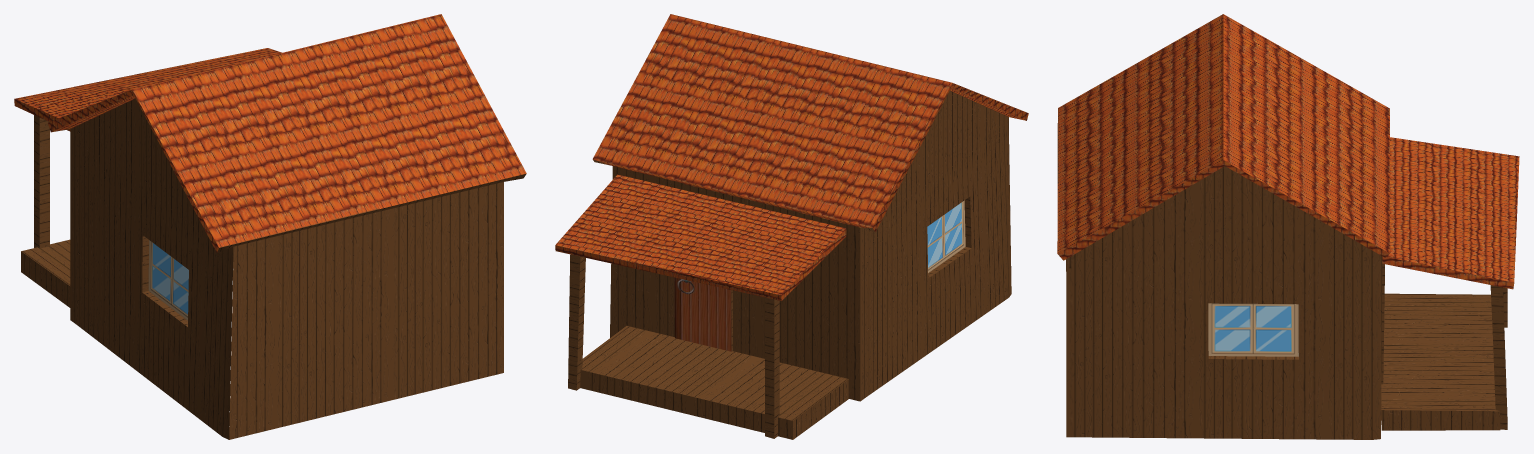
Rendered from ARC0710016.fbx.
3 views of the same model, side by side, from view 1: azimuth 30°, elevation 25°; view 2: azimuth 150°, elevation 25°; view 3: azimuth 270°, elevation 25° (orthographic). The views are drawn at different scales.
Visible parts, largest first — view 1: smARC0710016; view 2: smARC0710016; view 3: smARC0710016.
Part boxes in pixels (x1=…): smARC0710016: x1=14, y1=14, x2=526, y2=439; smARC0710016: x1=555, y1=14, x2=1028, y2=439; smARC0710016: x1=1057, y1=14, x2=1519, y2=439.
Bounding box in the file's own units: 449 × 410 × 600.
Materials: 1 (1 with a texture image).
